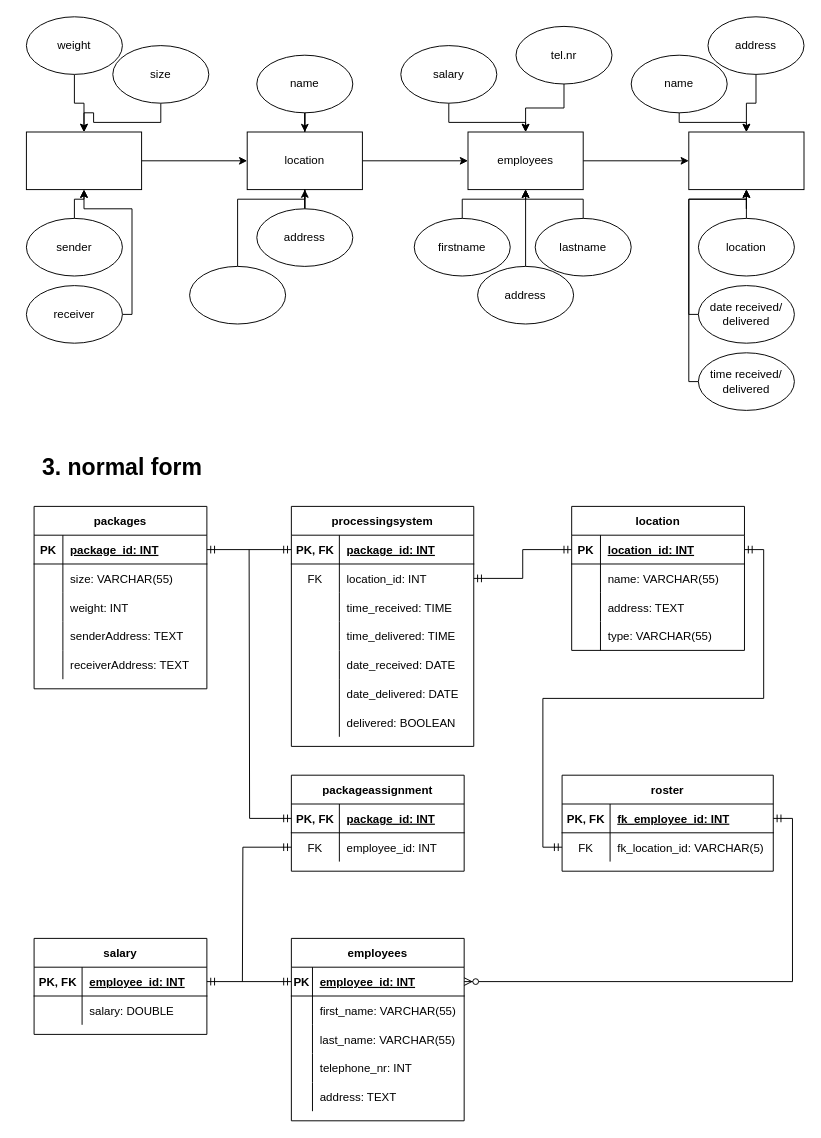
Image size: 821x1138. Some labels were removed from this diagram. Here are the shapes that lost their labels. From the top down, the centre of each, then its label:
At pixel 83 160: "packages/mail".
At pixel 746 160: "processing system".
At pixel 237 294: "type".
